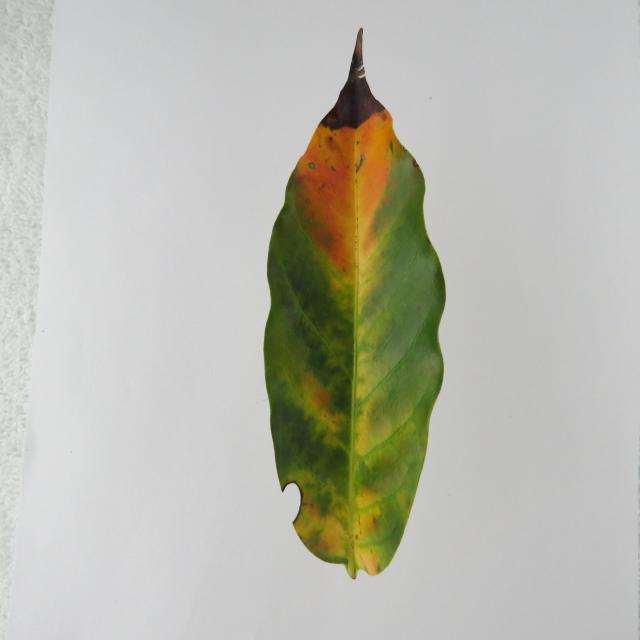DeficienciaNutricional-Fosforo: (264, 30, 445, 578)
